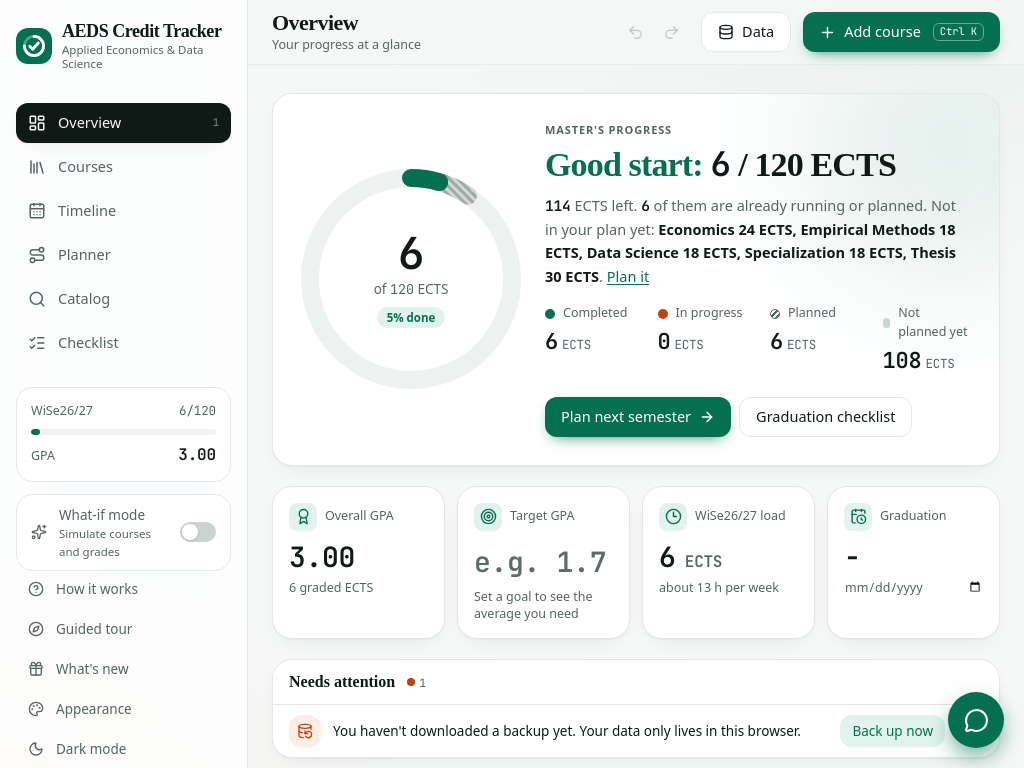
Test case: AEDS Assistant › greets with suggestion chips and answers with formatted text
What coordinates should you click on to do the following:
click the button named "Open AEDS AI Assistant chat"
I would click on:
 (976, 720)
Its box is [948,692,1004,748].
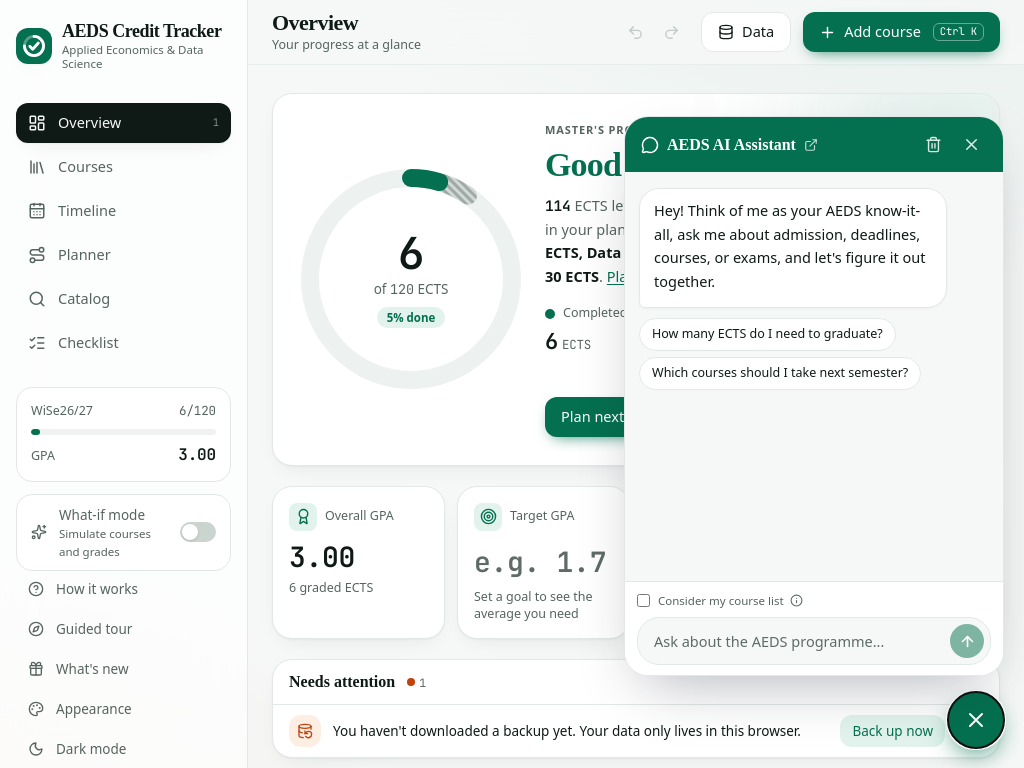
Result: the text "AEDS know-it-all" is shown at [654,200,926,291]
What coordinates should you click on to do the following:
click the button "Which courses should I take next semester?"
I would click on:
 (780, 373)
Its box is [639,357,921,390].
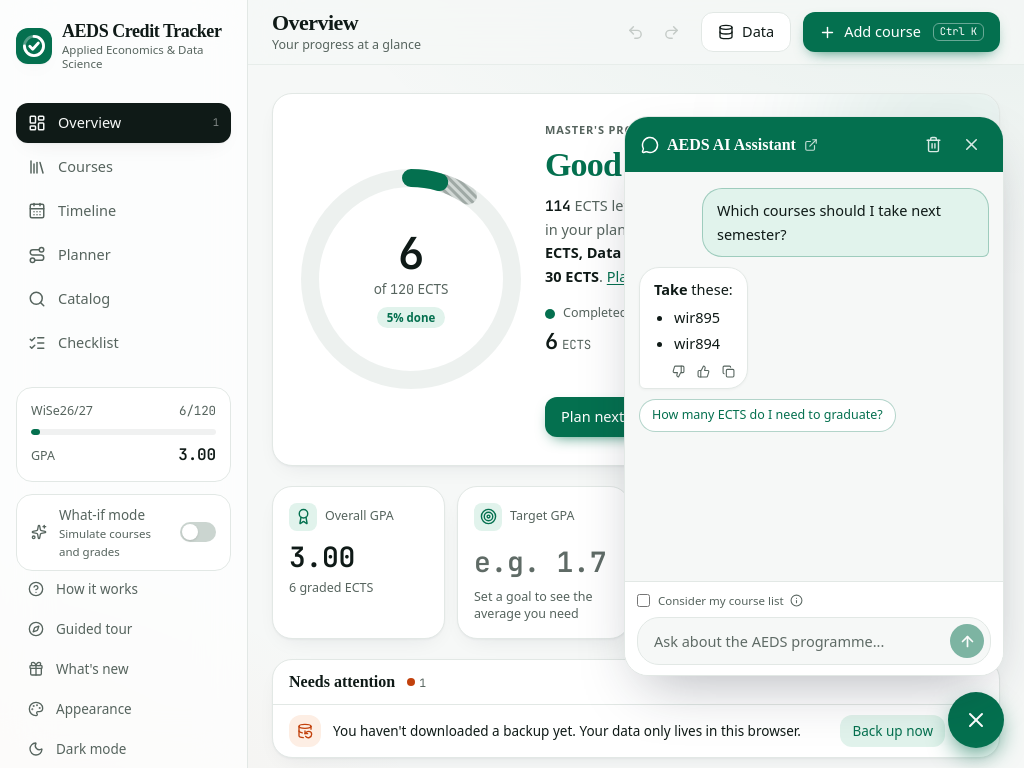
Result: the text "Take" is shown at [654,279,688,299]
